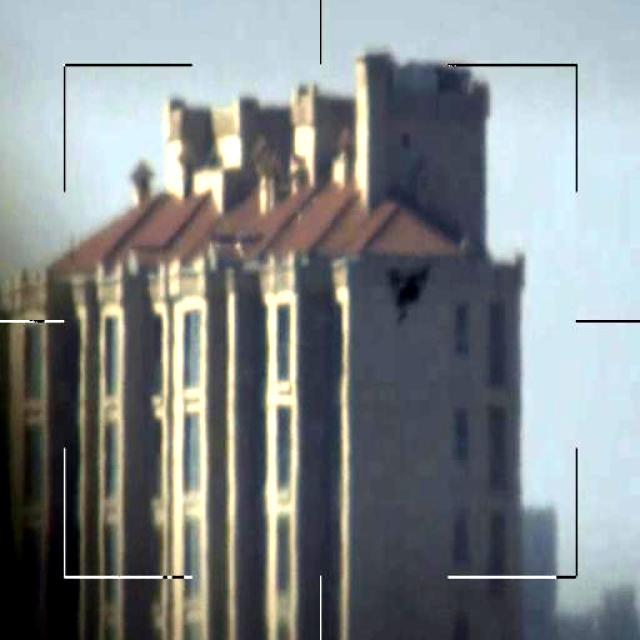bird: (386, 261, 432, 325)
